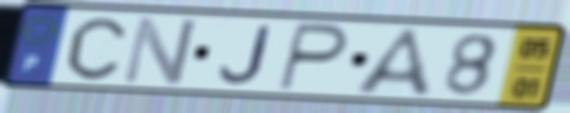8: (441, 31, 502, 99)
A: (350, 25, 437, 100)
C: (64, 15, 130, 83)
J: (216, 24, 275, 87)
N: (118, 13, 202, 87)
P: (274, 20, 352, 94)
